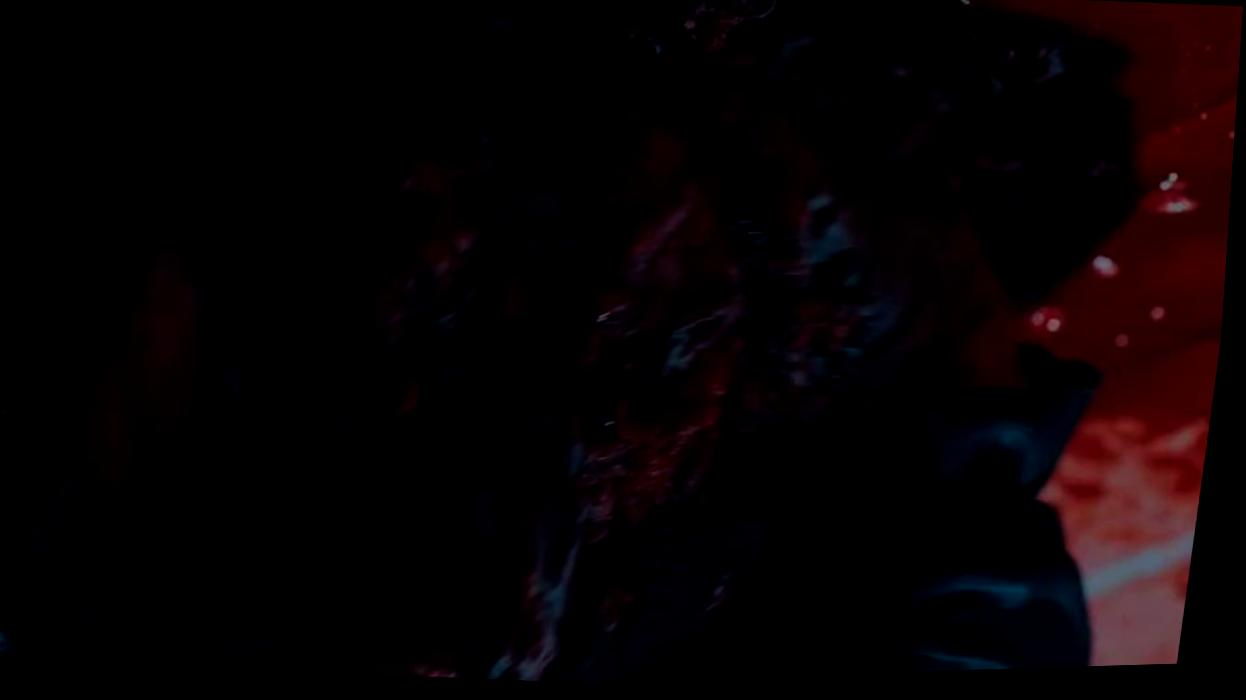Fire: (0, 0, 1244, 686)
